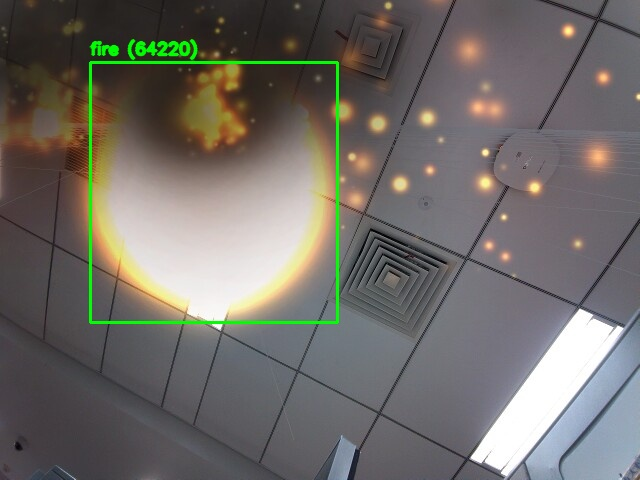fire: (90, 62, 337, 322)
